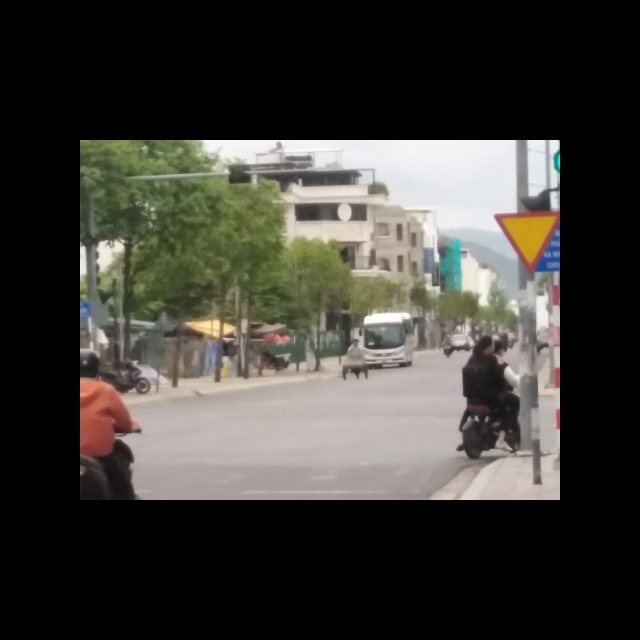Giao nhau với đường ưu tiên: (493, 212, 561, 275)
